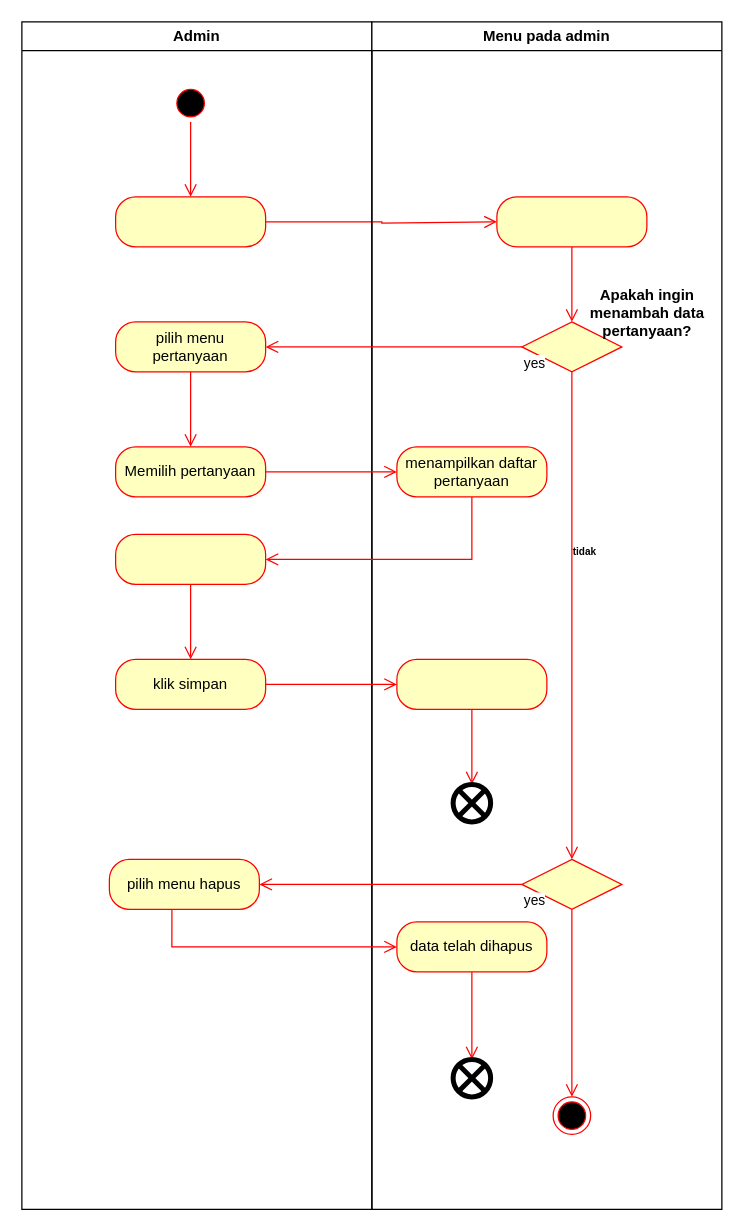
This 744x1231 diagram has some shape labels left out. The centre of each missing label's shape, as x and y in pixels:
"data telah disimpan" belongs at (x=471, y=683).
"Masuk menu" belongs at (x=190, y=221).
"menampilkan menu website" belongs at (x=571, y=221).
"mengisi data" belongs at (x=190, y=558).
